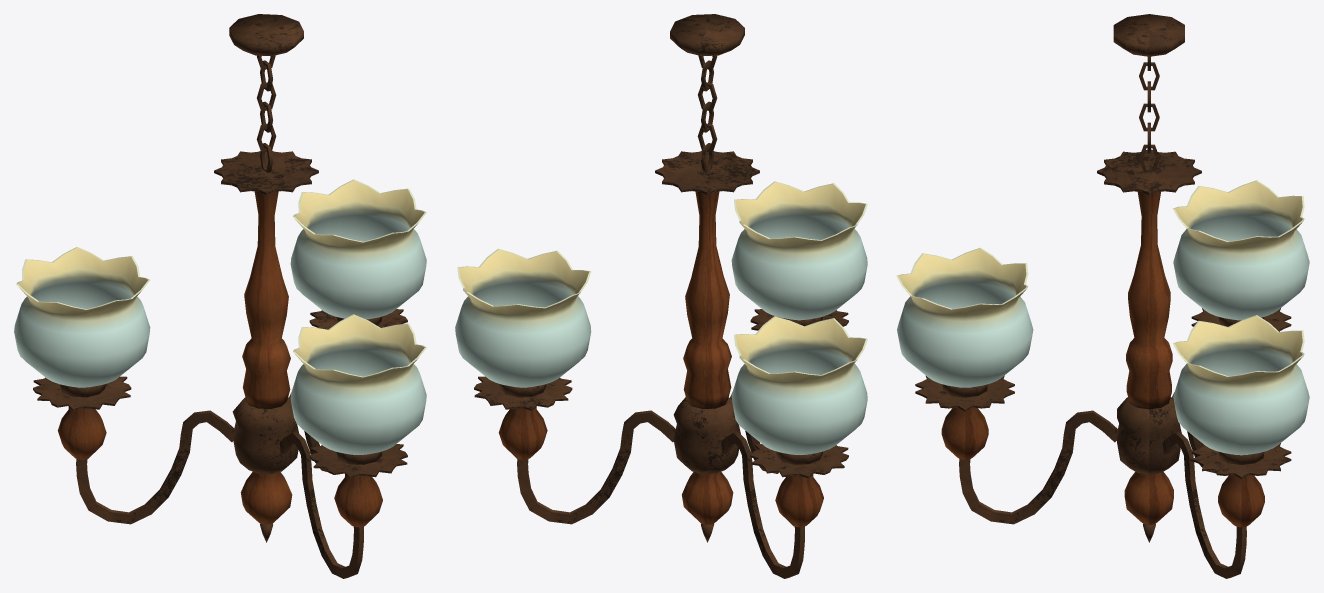
File: lamp_bronze_3_lod1_web.glb
3 renders of one model, left to right at view 1: azimuth 30°, elevation 25°; view 2: azimuth 150°, elevation 25°; view 3: azimuth 270°, elevation 25°, orthographic.
Visible parts, largest first — view 1: Chrome_Bronze, Glass_Shade_3, Glass_Shade_2, Glass_Shade_1, LampBronze3_Body; view 2: Chrome_Bronze, Glass_Shade_3, Glass_Shade_1, Glass_Shade_2, LampBronze3_Body; view 3: Chrome_Bronze, Glass_Shade_1, Glass_Shade_3, Glass_Shade_2, LampBronze3_Body.
Boxes of the visible parts, left/top/right/bottom form: Chrome_Bronze: left=33, top=14, right=407, bottom=578; Glass_Shade_3: left=290, top=314, right=426, bottom=454; Glass_Shade_2: left=14, top=247, right=150, bottom=387; Glass_Shade_1: left=290, top=179, right=426, bottom=319; LampBronze3_Body: left=57, top=191, right=382, bottom=527; Chrome_Bronze: left=474, top=14, right=848, bottom=578; Glass_Shade_3: left=731, top=181, right=867, bottom=320; Glass_Shade_1: left=455, top=248, right=591, bottom=387; Glass_Shade_2: left=731, top=316, right=867, bottom=454; LampBronze3_Body: left=498, top=191, right=823, bottom=527; Chrome_Bronze: left=915, top=14, right=1291, bottom=578; Glass_Shade_1: left=1173, top=315, right=1309, bottom=455; Glass_Shade_3: left=896, top=247, right=1033, bottom=387; Glass_Shade_2: left=1172, top=180, right=1309, bottom=320; LampBronze3_Body: left=941, top=192, right=1264, bottom=527.
Size of the model in its own units: 0.6677 by 0.83 by 0.606.
Materials: 3 (3 with a texture image).
